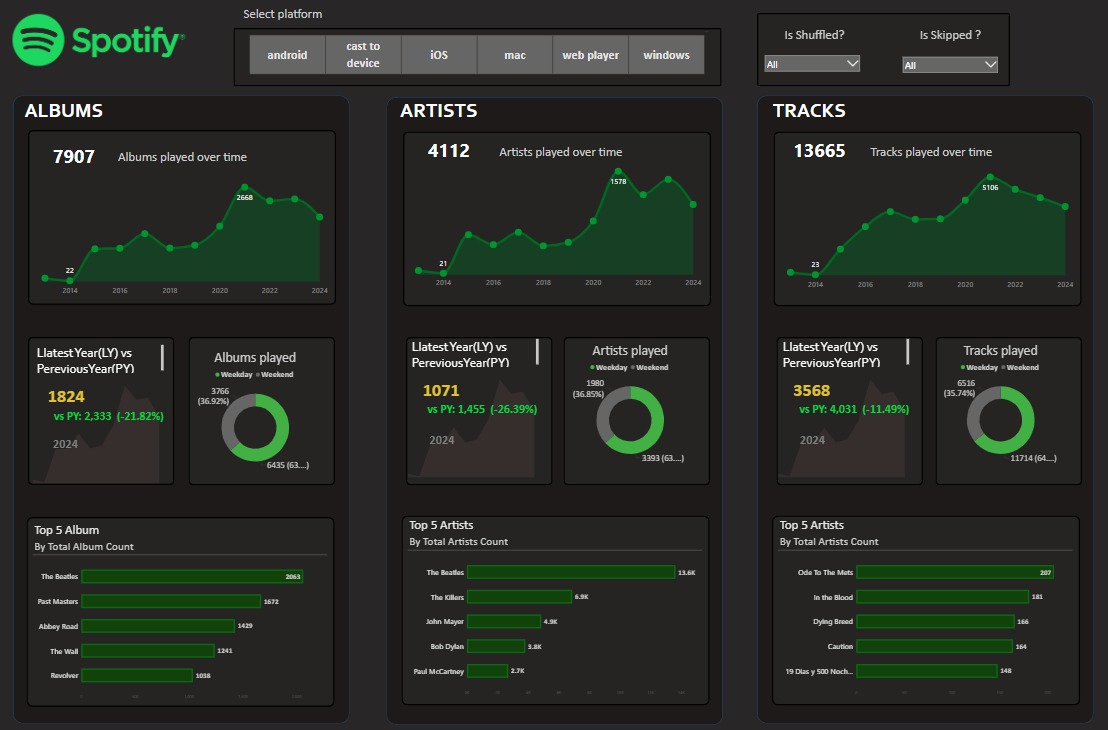

The dashboard page shown, as its layout file describes it:
{"tool":"powerbi","page":{"name":"Overview","canvas":[3300,2200],"ordinal":0},"visuals":[{"type":"shape","box":[724.2,106.9,1424,170.1],"z":0},{"type":"image","box":[43.7,43.7,573.5,199.3],"z":1000},{"type":"shape","box":[77.8,301.3,981.8,1832.3],"z":2000},{"type":"textbox","box":[77.8,301.3,296.5,102.1],"z":3000},{"type":"shape","box":[121.5,403.4,899.1,510.3],"z":4000},{"type":"card","fields":{"Values":["spotify_history.No Of Albums"]},"box":[140.9,418,233.3,121.5],"z":5000},{"type":"textbox","box":[374.2,418,393.7,121.5],"z":6000},{"type":"areaChart","fields":{"Category":["Date Table.Year"],"Y":["spotify_history.No Of Albums"]},"box":[121.5,520,879.7,374.2],"z":7000},{"type":"shape","box":[121.5,1006.1,427,432],"z":8000},{"type":"areaChart","fields":{"Category":["Date Table.Year"],"Y":["spotify_history.No Of Albums"]},"box":[87.5,1098.4,432.6,340.2],"z":9000},{"type":"shape","box":[592.9,1006.1,427.7,432.6],"z":10000},{"type":"shape","box":[1166.4,306.2,981.8,1832.3],"z":11000},{"type":"shape","box":[2250.3,301.3,981.8,1832.3],"z":12000},{"type":"shape","box":[116.6,1531,899.1,554.1],"z":13000},{"type":"textbox","box":[145.8,1025.5,379.1,92.3],"z":14000},{"type":"card","fields":{"Values":["spotify_history.CurrentYearAlbums"]},"box":[150.7,1117.8,170.1,116.6],"z":15000},{"type":"card","fields":{"Values":["spotify_history.PY and YoY Albums KPI"]},"box":[170.1,1176.2,374.2,116.6],"z":16000},{"type":"slicer","fields":{"Values":["spotify_history.platform"]},"box":[743.6,106.9,1375.4,140.9],"z":17000},{"type":"card","fields":{"Values":["spotify_history.MaxYear"]},"box":[165.2,1263.7,131.2,102.1],"z":18000},{"type":"donutChart","title":"Albums played","fields":{"Category":["Date Table.Weekday_Weekend"],"Y":["spotify_history.No Of Albums"]},"box":[592.9,1040.1,388.8,369.4],"z":19000},{"type":"barChart","title":"Top 5 Album","fields":{"Category":["spotify_history.album_name"],"Y":["CountNonNull(spotify_history.album_name)"]},"box":[136.1,1545.5,860.3,529.8],"z":20000},{"type":"textbox","box":[1171.3,301.3,296.5,102.1],"z":21000},{"type":"shape","box":[1215.1,408.3,899.1,510.3],"z":22000},{"type":"card","fields":{"Values":["spotify_history.No Of Artists"]},"box":[1233.2,398.8,233.3,121.5],"z":23000},{"type":"areaChart","fields":{"Category":["Date Table.Year"],"Y":["spotify_history.No Of Artists"]},"box":[1213.7,500.9,879.7,374.2],"z":24000},{"type":"shape","box":[1224.8,1006.1,427.7,432.6],"z":25000},{"type":"areaChart","fields":{"Category":["Date Table.Year"],"Y":["spotify_history.No Of Albums"]},"box":[1179.7,1079.2,432.6,340.2],"z":26000},{"type":"shape","box":[1686.5,1006.1,427.7,432.6],"z":27000},{"type":"shape","box":[1210.2,1526.1,899.1,554.1],"z":28000},{"type":"textbox","box":[1238,1006.3,379.1,92.3],"z":29000},{"type":"card","fields":{"Values":["spotify_history.LatestYearArtists"]},"box":[1242.9,1098.7,170.1,116.6],"z":30000},{"type":"card","fields":{"Values":["spotify_history.PY and YoY Artists KPI"]},"box":[1262.3,1157,374.2,116.6],"z":31000},{"type":"donutChart","title":"Artists played","fields":{"Category":["Date Table.Weekday_Weekend"],"Y":["spotify_history.No Of Artists"]},"box":[1685.1,1020.9,388.8,369.4],"z":32000},{"type":"barChart","title":"Top 5 Artists","fields":{"Category":["spotify_history.artist_name"],"Y":["CountNonNull(spotify_history.artist_name)"]},"box":[1229.6,1531,860.3,529.8],"z":33000},{"type":"textbox","box":[1448.3,403.4,456.9,121.5],"z":34000},{"type":"card","fields":{"Values":["spotify_history.MaxYear"]},"box":[1263.7,1258.8,131.2,87.5],"z":35000},{"type":"textbox","box":[2253.8,301.6,296.5,102.1],"z":36000},{"type":"shape","box":[2297.5,408.5,899.1,510.3],"z":37000},{"type":"card","fields":{"Values":["spotify_history.No Of Tracks"]},"box":[2315.6,399.1,233.3,121.5],"z":38000},{"type":"areaChart","fields":{"Category":["Date Table.Year"],"Y":["spotify_history.No Of Tracks"]},"box":[2296.2,501.2,879.7,374.2],"z":39000},{"type":"shape","box":[2307.3,1006.3,427.7,432.6],"z":40000},{"type":"areaChart","fields":{"Category":["Date Table.Year"],"Y":["spotify_history.No Of Albums"]},"box":[2262.2,1079.5,432.6,340.2],"z":41000},{"type":"shape","box":[2769,1006.3,427.7,432.6],"z":42000},{"type":"shape","box":[2292.7,1526.4,899.1,554.1],"z":43000},{"type":"textbox","box":[2320.5,1006.6,379.1,92.3],"z":44000},{"type":"card","fields":{"Values":["spotify_history.LatestYearTracks"]},"box":[2325.4,1099,170.1,116.6],"z":45000},{"type":"card","fields":{"Values":["spotify_history.PY and YoY Tracks KPI"]},"box":[2344.8,1157.3,374.2,116.6],"z":46000},{"type":"donutChart","title":"Tracks played","fields":{"Category":["Date Table.Weekday_Weekend"],"Y":["spotify_history.No Of Tracks"]},"box":[2767.6,1021.2,388.8,369.4],"z":47000},{"type":"barChart","title":"Top 5 Artists","fields":{"Y":["CountNonNull(spotify_history.track_name)"],"Category":["spotify_history.track_name"]},"box":[2312.1,1531.2,860.3,529.8],"z":48000},{"type":"textbox","box":[2530.8,403.7,456.9,121.5],"z":49000},{"type":"card","fields":{"Values":["spotify_history.MaxYear"]},"box":[2346.1,1259.1,131.2,87.5],"z":50000},{"type":"textbox","box":[719.3,0,296.5,111.8],"z":51000},{"type":"shape","box":[2250.3,63.2,738.8,213.8],"z":52000},{"type":"slicer","fields":{"Values":["spotify_history.shuffle"]},"box":[2264.9,175,296.5,75],"z":53000},{"type":"slicer","fields":{"Values":["spotify_history.skipped"]},"box":[2663.4,179.8,296.5,75],"z":54000},{"type":"textbox","box":[2663.4,63.2,296.5,97.2],"z":55000},{"type":"textbox","box":[2269.7,63.2,291.6,97.2],"z":56000}]}

Visuals, with their boxes in screenshot pixels (x1, y1, x2, y2), scaled from the page's 3300x2200 canvas onto the 1108x730 screenshot:
shape: <region>243, 35, 721, 92</region>
image: <region>15, 15, 207, 81</region>
shape: <region>26, 100, 356, 708</region>
textbox: <region>26, 100, 126, 134</region>
shape: <region>41, 134, 343, 303</region>
card - spotify_history.No Of Albums: <region>47, 139, 126, 179</region>
textbox: <region>126, 139, 258, 179</region>
areaChart - Date Table.Year x spotify_history.No Of Albums: <region>41, 173, 336, 297</region>
shape: <region>41, 334, 184, 477</region>
areaChart - Date Table.Year x spotify_history.No Of Albums: <region>29, 364, 175, 477</region>
shape: <region>199, 334, 343, 477</region>
shape: <region>392, 102, 721, 710</region>
shape: <region>756, 100, 1085, 708</region>
shape: <region>39, 508, 341, 692</region>
textbox: <region>49, 340, 176, 371</region>
card - spotify_history.CurrentYearAlbums: <region>51, 371, 108, 410</region>
card - spotify_history.PY and YoY Albums KPI: <region>57, 390, 183, 429</region>
slicer - spotify_history.platform: <region>250, 35, 711, 82</region>
card - spotify_history.MaxYear: <region>55, 419, 100, 453</region>
"Albums played" donutChart: <region>199, 345, 330, 468</region>
"Top 5 Album" barChart: <region>46, 513, 335, 689</region>
textbox: <region>393, 100, 493, 134</region>
shape: <region>408, 135, 710, 305</region>
card - spotify_history.No Of Artists: <region>414, 132, 492, 173</region>
areaChart - Date Table.Year x spotify_history.No Of Artists: <region>408, 166, 703, 290</region>
shape: <region>411, 334, 555, 477</region>
areaChart - Date Table.Year x spotify_history.No Of Albums: <region>396, 358, 541, 471</region>
shape: <region>566, 334, 710, 477</region>
shape: <region>406, 506, 708, 690</region>
textbox: <region>416, 334, 543, 365</region>
card - spotify_history.LatestYearArtists: <region>417, 365, 474, 403</region>
card - spotify_history.PY and YoY Artists KPI: <region>424, 384, 549, 423</region>
"Artists played" donutChart: <region>566, 339, 696, 461</region>
"Top 5 Artists" barChart: <region>413, 508, 702, 684</region>
textbox: <region>486, 134, 640, 174</region>
card - spotify_history.MaxYear: <region>424, 418, 468, 447</region>
textbox: <region>757, 100, 856, 134</region>
shape: <region>771, 136, 1073, 305</region>
card - spotify_history.No Of Tracks: <region>777, 132, 856, 173</region>
areaChart - Date Table.Year x spotify_history.No Of Tracks: <region>771, 166, 1066, 290</region>
shape: <region>775, 334, 918, 477</region>
areaChart - Date Table.Year x spotify_history.No Of Albums: <region>760, 358, 905, 471</region>
shape: <region>930, 334, 1073, 477</region>
shape: <region>770, 506, 1072, 690</region>
textbox: <region>779, 334, 906, 365</region>
card - spotify_history.LatestYearTracks: <region>781, 365, 838, 403</region>
card - spotify_history.PY and YoY Tracks KPI: <region>787, 384, 913, 423</region>
"Tracks played" donutChart: <region>929, 339, 1060, 461</region>
"Top 5 Artists" barChart: <region>776, 508, 1065, 684</region>
textbox: <region>850, 134, 1003, 174</region>
card - spotify_history.MaxYear: <region>788, 418, 832, 447</region>
textbox: <region>242, 0, 341, 37</region>
shape: <region>756, 21, 1004, 92</region>
slicer - spotify_history.shuffle: <region>760, 58, 860, 83</region>
slicer - spotify_history.skipped: <region>894, 60, 994, 85</region>
textbox: <region>894, 21, 994, 53</region>
textbox: <region>762, 21, 860, 53</region>
